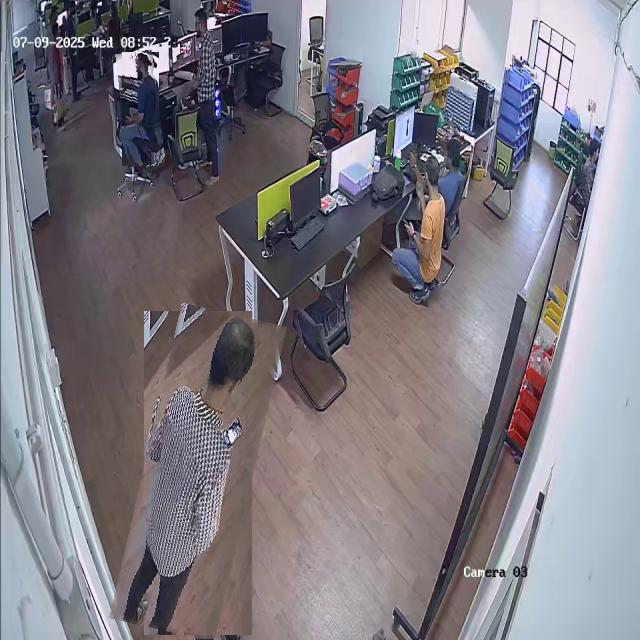person: (127, 307, 269, 639), (388, 153, 448, 299), (190, 9, 229, 186), (119, 51, 162, 167)
